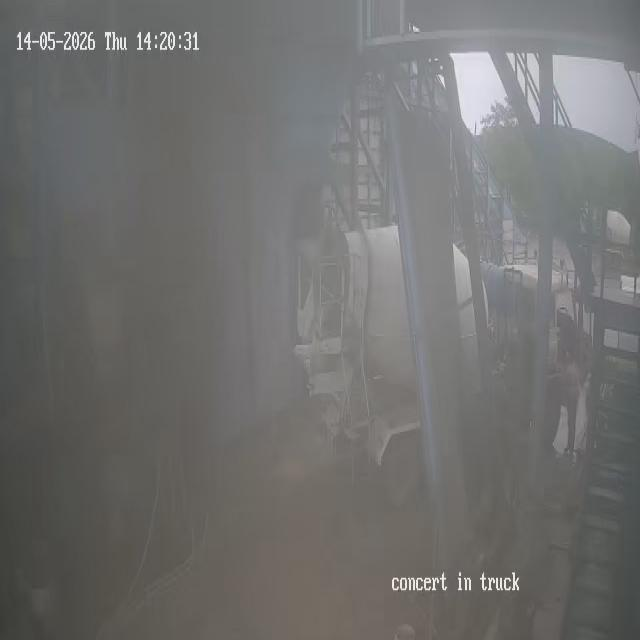cement_mixer_truck: (287, 196, 584, 522)
